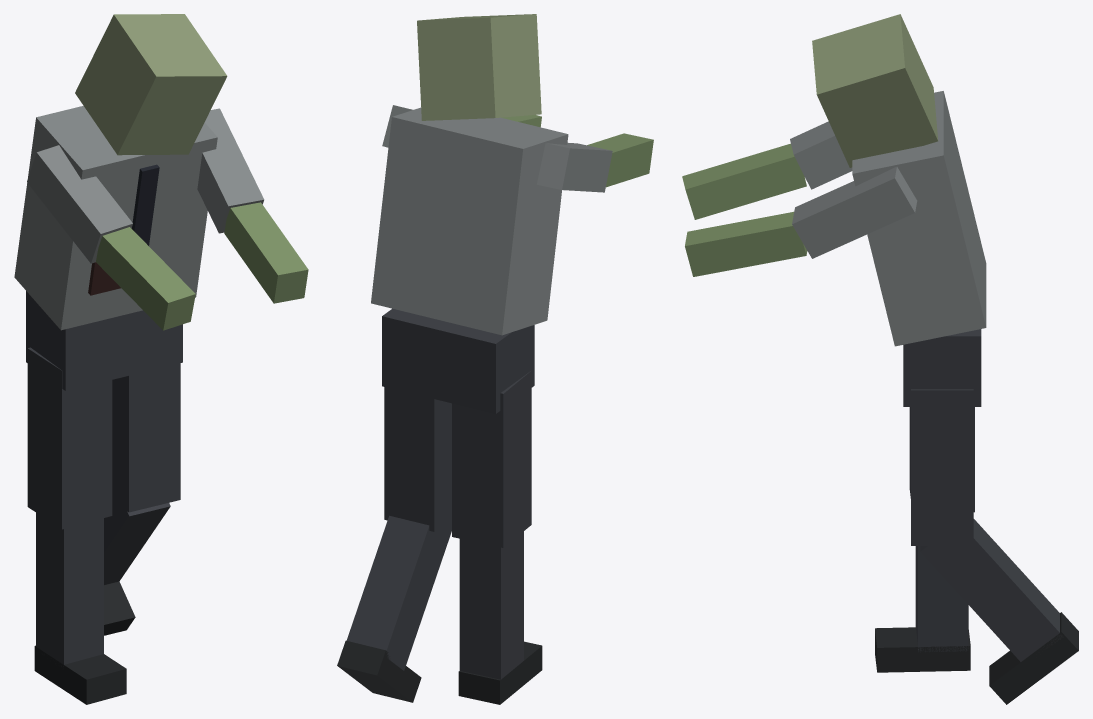
Rendered from zombie_office.glb.
3 renders of one model, left to right at view 1: azimuth 30°, elevation 25°; view 2: azimuth 150°, elevation 25°; view 3: azimuth 270°, elevation 25°, orthographic. The views are drawn at different scales.
Parts seen in each view (by area): view 1: zombie_office; view 2: zombie_office; view 3: zombie_office.
Boxes of the visible parts, bbox=[...] form: zombie_office: bbox=[14, 14, 308, 704]; zombie_office: bbox=[337, 14, 653, 704]; zombie_office: bbox=[682, 14, 1078, 704].
Size of the model in its own units: 0.5348 by 1.86 by 1.02.
